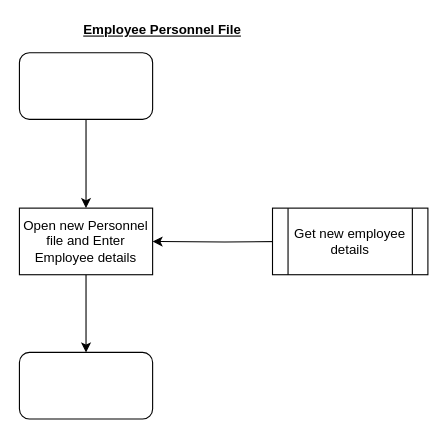
Image size: 447x438. Some labels were removed from this diagram. Here are the shapes that lost their labels. From the top down, the centre of each, then its label:
At point (85, 85): "Start".
At point (85, 385): "End".
